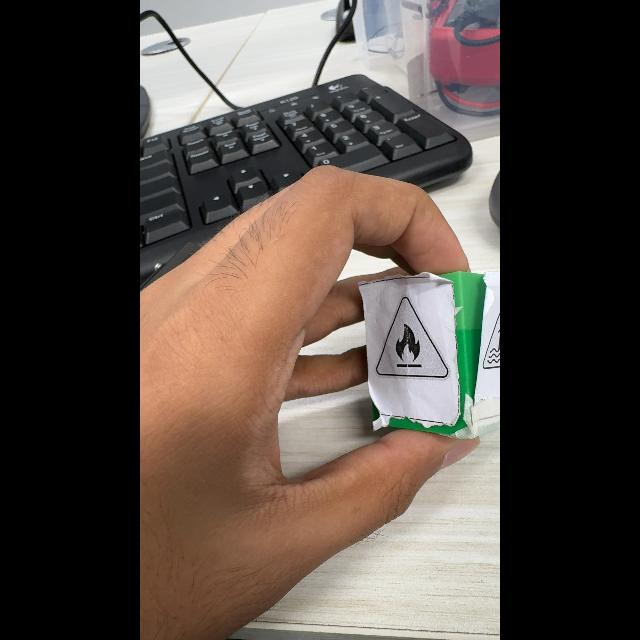Fire: (376, 297, 448, 379)
